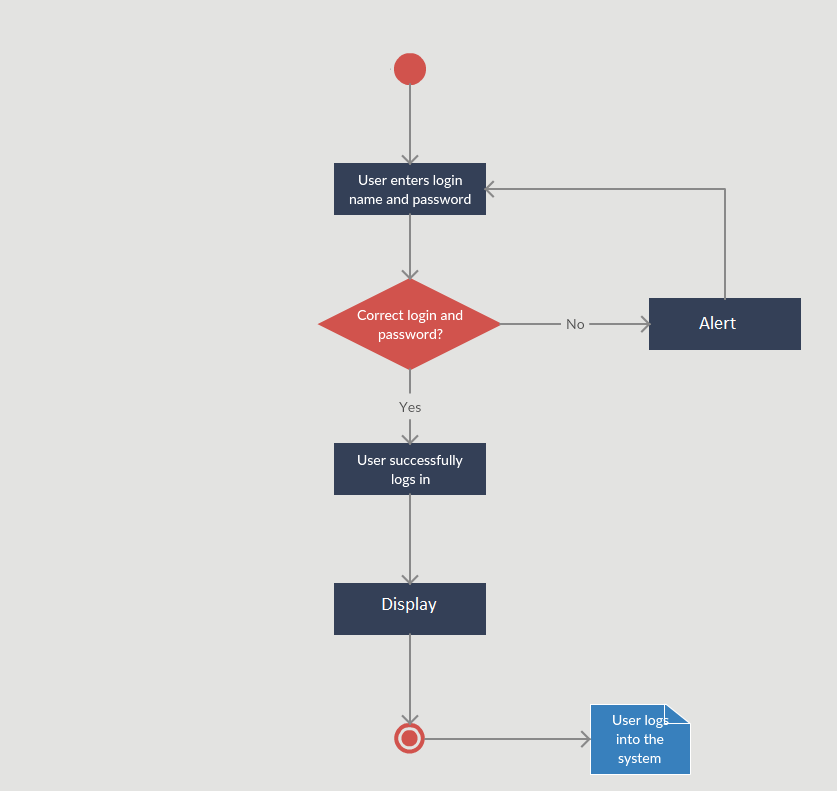arrow: (480, 177, 730, 301), (495, 314, 651, 337), (421, 729, 595, 749), (399, 488, 423, 584), (398, 632, 421, 729), (399, 368, 421, 444), (399, 84, 418, 163), (399, 212, 421, 280)
connection: (391, 719, 427, 756), (391, 50, 428, 86)
decision: (318, 277, 506, 372)
process: (330, 439, 489, 498), (330, 580, 489, 639), (646, 294, 803, 351), (330, 160, 489, 216), (588, 701, 692, 776)
text: (345, 169, 474, 209), (354, 450, 464, 490), (356, 306, 469, 342), (607, 709, 671, 766), (377, 592, 439, 616), (695, 313, 739, 332), (395, 397, 423, 415), (564, 315, 586, 332)
